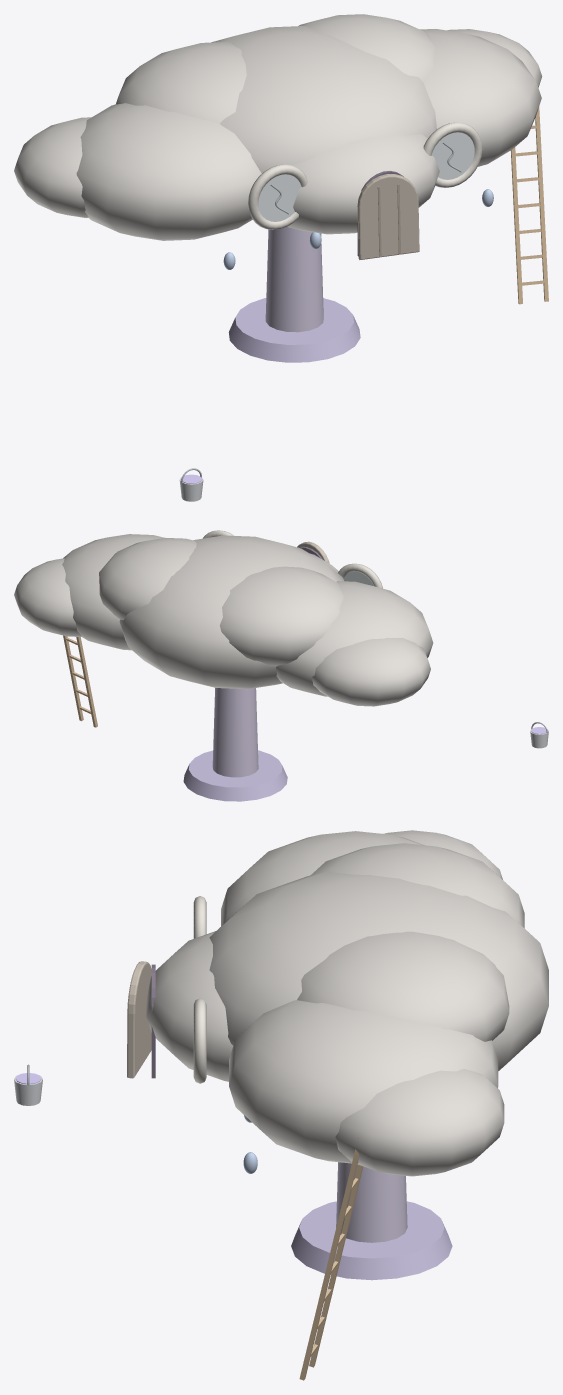
File: building_sky_L03.glb
The picture shows the model from 3 angles, top to bottom: view 1: azimuth 30°, elevation 25°; view 2: azimuth 150°, elevation 25°; view 3: azimuth 270°, elevation 25°; orthographic projection. The views are drawn at different scales.
Parts seen in each view (by area): view 1: Body, sky_L3; view 2: Body, sky_L3; view 3: Body, sky_L3.
Part boxes in pixels (x1,y1,x2,y2): Body: [14, 14, 542, 362]; sky_L3: [179, 75, 548, 501]; Body: [14, 530, 433, 801]; sky_L3: [63, 635, 548, 748]; Body: [127, 830, 548, 1280]; sky_L3: [14, 1064, 363, 1380].
Bounding box in the file's own units: 17.73 × 9.54 × 13.25.
